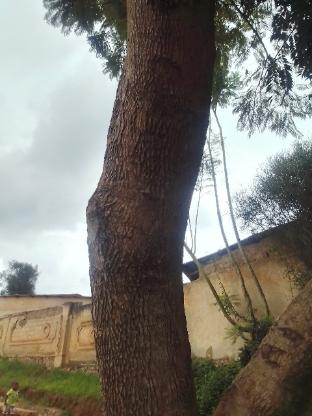tree: (68, 0, 229, 416)
